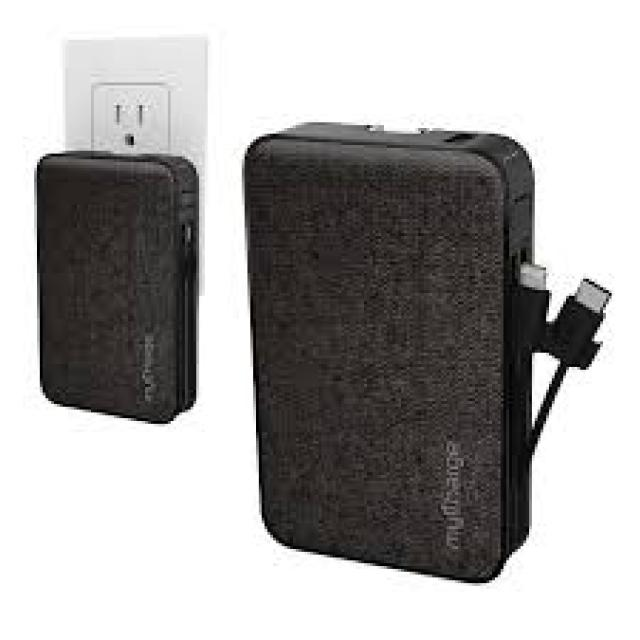power_bank: (243, 113, 534, 586), (32, 150, 200, 426)
